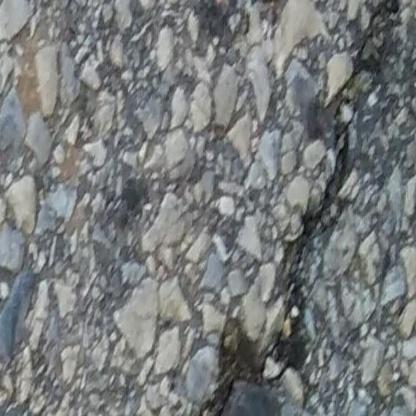Cracks: (190, 0, 402, 416)
